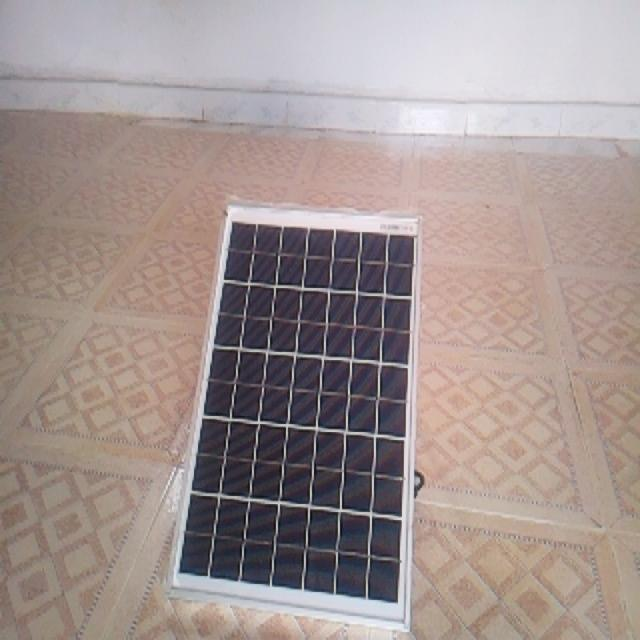Normal Solar Panel: (173, 209, 421, 629)
